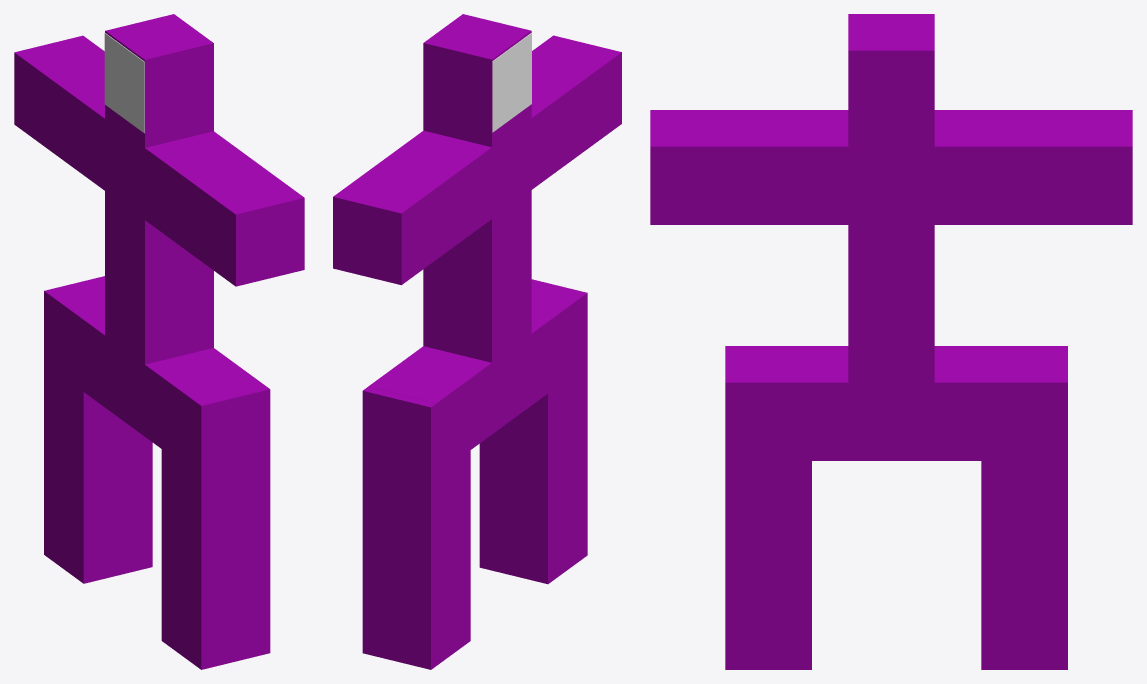
File: purple.dae
3 views of the same model, side by side, from view 1: azimuth 30°, elevation 25°; view 2: azimuth 150°, elevation 25°; view 3: azimuth 270°, elevation 25° (orthographic). The views are drawn at different scales.
Visible parts, largest first — view 1: Box4, Box, Box3, Box1, Box2, Box5; view 2: Box3, Box4, Box1, Box, Box2, Box5; view 3: Box4, Box3, Box1, Box, Box2.
Boxes of the visible parts, x1,y1,x2,y2 form: Box4: [14, 35, 304, 286]; Box: [161, 389, 270, 669]; Box3: [105, 14, 213, 408]; Box1: [44, 276, 152, 583]; Box2: [49, 281, 269, 477]; Box5: [104, 33, 144, 133]; Box3: [423, 14, 531, 424]; Box4: [333, 35, 621, 285]; Box1: [362, 387, 470, 669]; Box: [479, 279, 587, 584]; Box2: [368, 280, 586, 474]; Box5: [492, 33, 531, 132]; Box4: [650, 110, 1132, 224]; Box3: [848, 14, 934, 451]; Box1: [981, 346, 1067, 669]; Box: [725, 346, 811, 669]; Box2: [726, 346, 1056, 460].
Size of the model in its own units: 0.7063 by 5.52 by 3.9.
